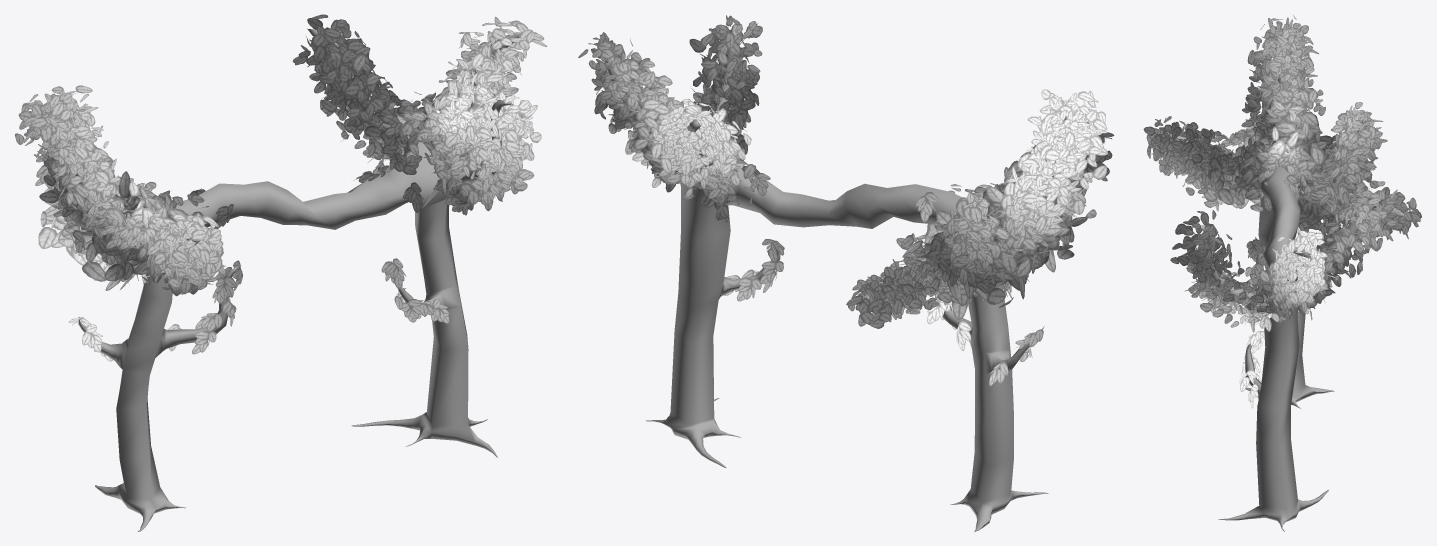
File: Intertwined Tree Low Poly.fbx
The picture shows the model from 3 angles, left to right: view 1: azimuth 30°, elevation 25°; view 2: azimuth 150°, elevation 25°; view 3: azimuth 270°, elevation 25°; orthographic projection. The views are drawn at different scales.
Parts seen in each view (by area): view 1: Intertwined_Tree_Low_Poly, Leaves1, Leaves; view 2: Leaves, Intertwined_Tree_Low_Poly, Leaves1; view 3: Leaves, Leaves1, Intertwined_Tree_Low_Poly.
Part boxes in pixels (bbox=[...]): Intertwined_Tree_Low_Poly: bbox=[63, 28, 521, 531]; Leaves1: bbox=[292, 14, 547, 323]; Leaves: bbox=[15, 85, 242, 361]; Leaves: bbox=[846, 89, 1114, 385]; Intertwined_Tree_Low_Poly: bbox=[606, 24, 1066, 531]; Leaves1: bbox=[578, 15, 784, 301]; Leaves: bbox=[1143, 15, 1421, 278]; Leaves1: bbox=[1170, 181, 1397, 408]; Intertwined_Tree_Low_Poly: bbox=[1162, 49, 1412, 531].
Bounding box in the file's own units: 36.32 × 28.79 × 21.04.
